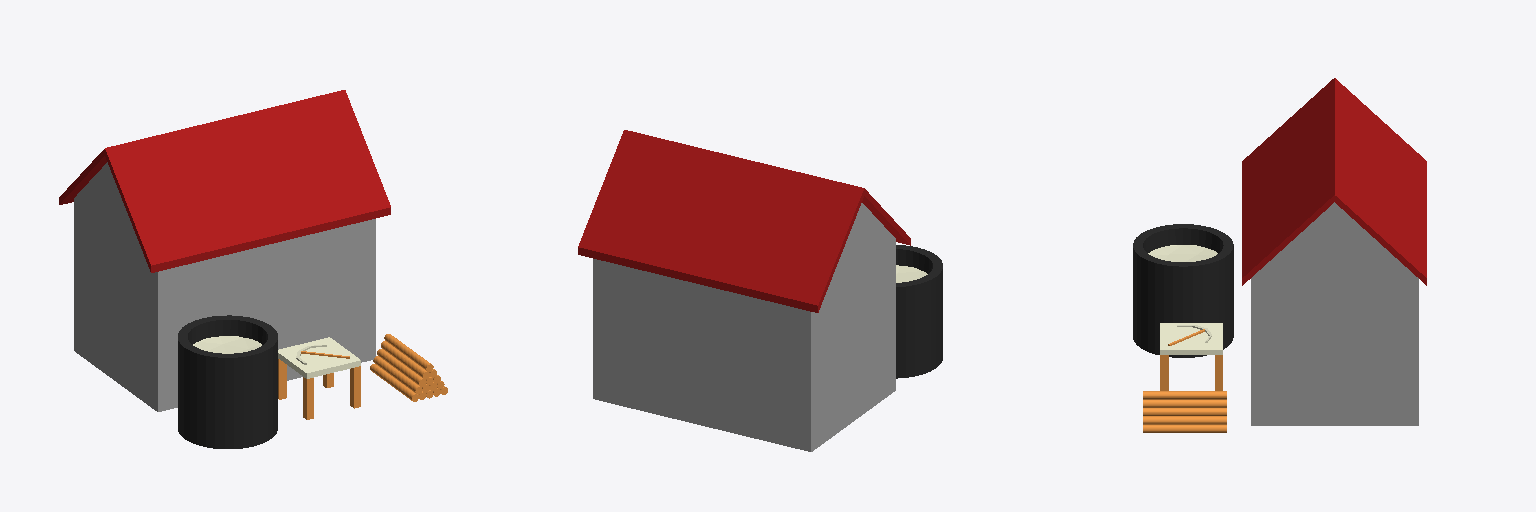
Rendered from BToolFactory.obj.
3 views of the same model, side by side, from view 1: azimuth 30°, elevation 25°; view 2: azimuth 150°, elevation 25°; view 3: azimuth 270°, elevation 25° (orthographic).
Parts seen in each view (by area): view 1: BToolFactory; view 2: BToolFactory; view 3: BToolFactory.
Boxes of the visible parts, x1,y1,x2,y2 form: BToolFactory: [59, 90, 447, 448]; BToolFactory: [578, 130, 942, 451]; BToolFactory: [1133, 78, 1426, 432].
Bounding box in the file's own units: 3.4 × 3.1 × 3.5.